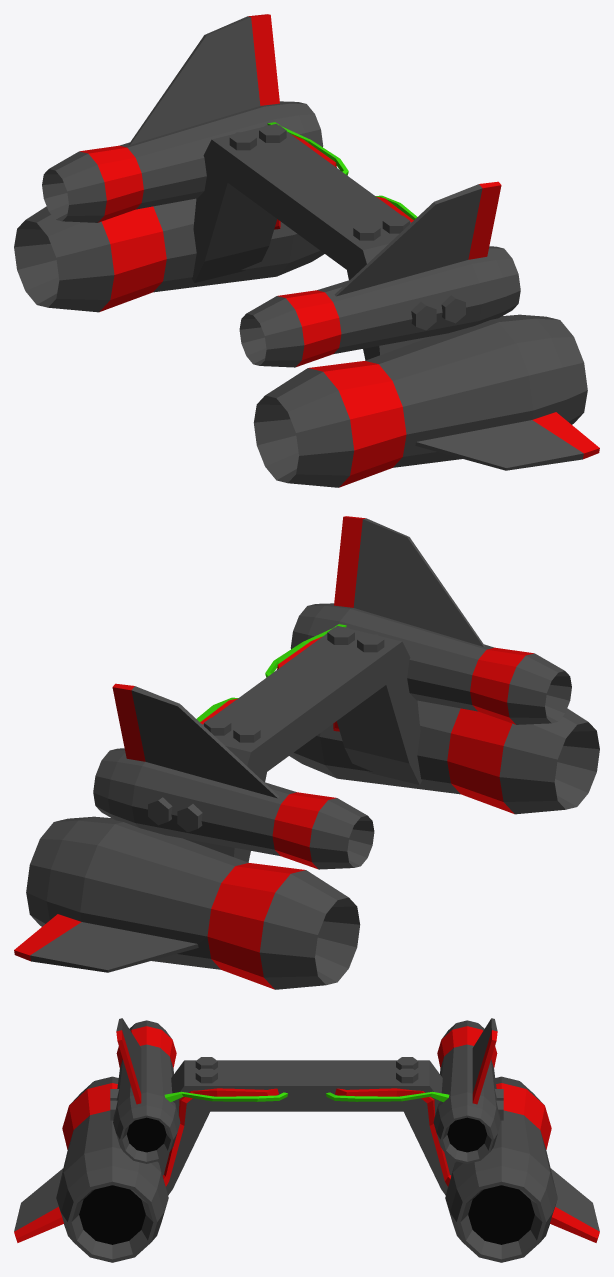
File: carrrupgrade.fbx
3 views of the same model, one above another, from view 1: azimuth 30°, elevation 25°; view 2: azimuth 150°, elevation 25°; view 3: azimuth 270°, elevation 25° (orthographic). The views are drawn at different scales.
Parts seen in each view (by area): view 1: Cube.001; view 2: Cube.001; view 3: Cube.001.
Part boxes in pixels (box(x1,y1,x2,y2)): Cube.001: box(14, 14, 599, 487); Cube.001: box(14, 516, 599, 989); Cube.001: box(14, 1018, 599, 1262).
Bounding box in the file's own units: 238 × 209 × 521.
